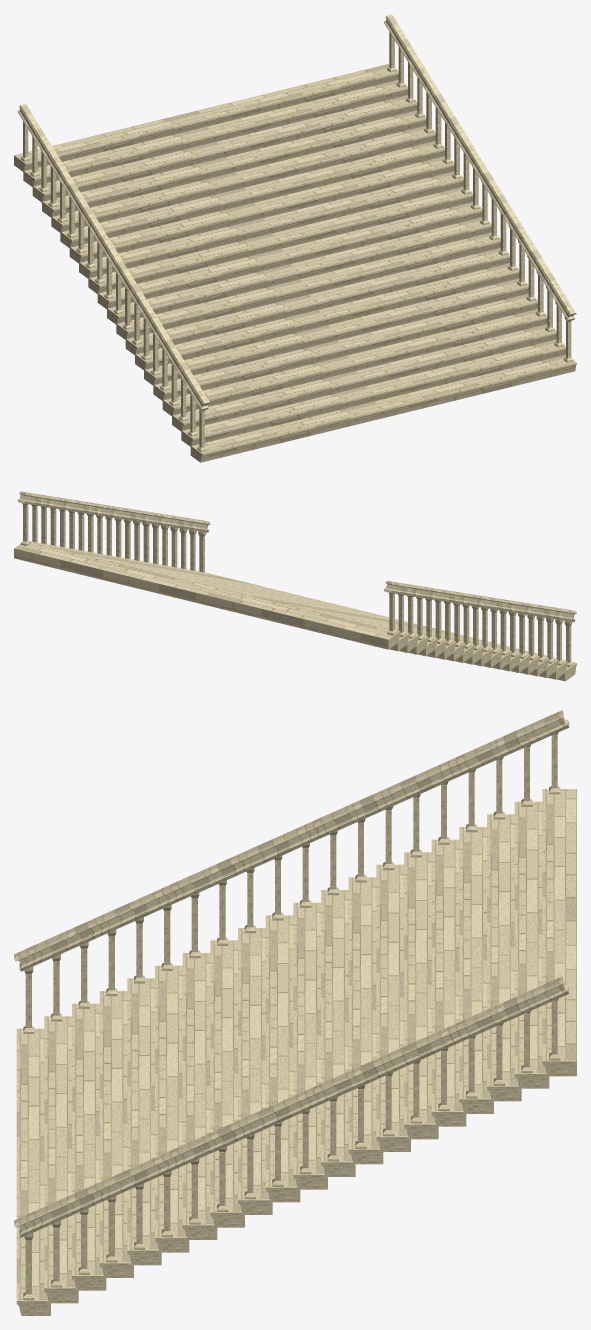
Rendered from Stair_1.gltf.
3 renders of one model, top to bottom at view 1: azimuth 30°, elevation 25°; view 2: azimuth 150°, elevation 25°; view 3: azimuth 270°, elevation 25°, orthographic. The views are drawn at different scales.
Visible parts, largest first — view 1: Cube.016; view 2: Cube.016; view 3: Cube.016.
Part boxes in pixels (<box>): Cube.016: <box>14,14,576,462</box>; Cube.016: <box>14,491,576,681</box>; Cube.016: <box>14,710,576,1315</box>.
Bounding box in the file's own units: 6.74 × 3.86 × 5.89.
Materials: 1 (1 with a texture image).
